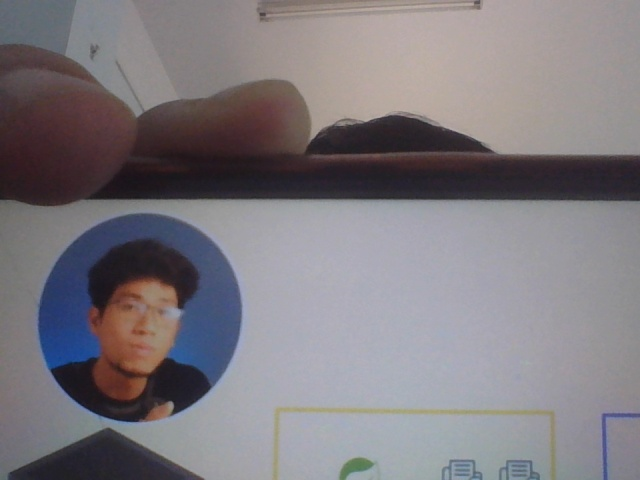fake: (86, 241, 200, 402)
